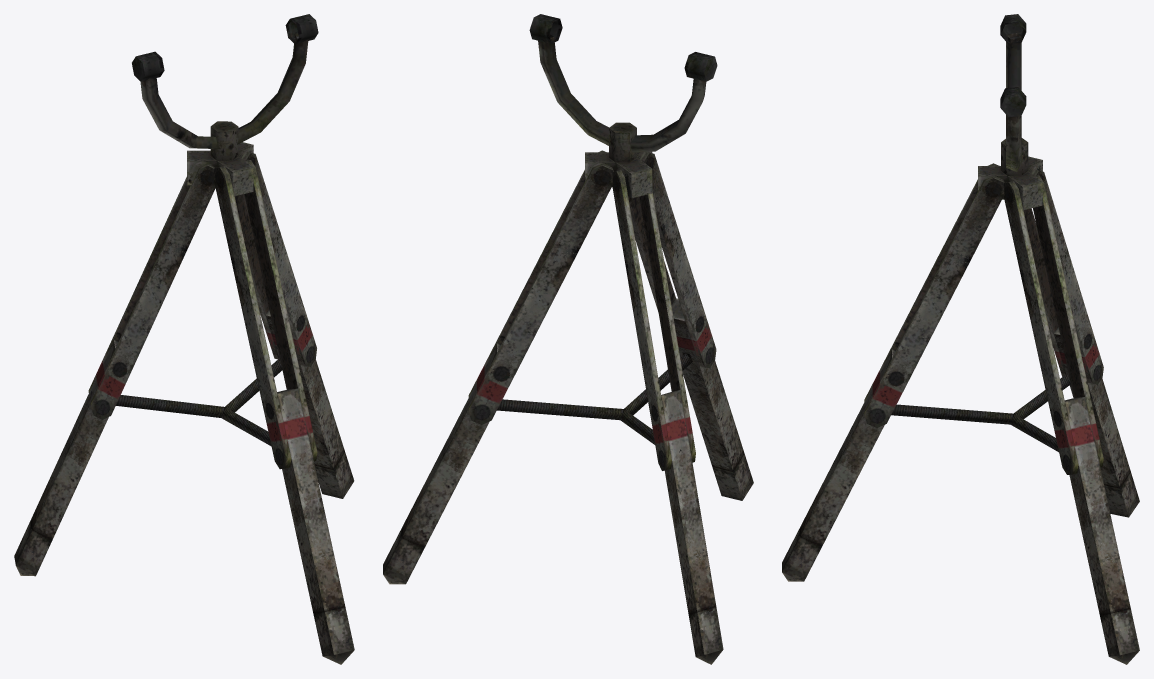
File: spotlight_tripod_flesher_tripod.DAE
3 views of the same model, side by side, from view 1: azimuth 30°, elevation 25°; view 2: azimuth 150°, elevation 25°; view 3: azimuth 270°, elevation 25° (orthographic). The views are drawn at different scales.
Visible parts, largest first — view 1: spotlight_tripod_flesher_LP; view 2: spotlight_tripod_flesher_LP; view 3: spotlight_tripod_flesher_LP.
Part boxes in pixels (x1=…): spotlight_tripod_flesher_LP: x1=14, y1=14, x2=354, y2=664; spotlight_tripod_flesher_LP: x1=383, y1=14, x2=753, y2=664; spotlight_tripod_flesher_LP: x1=782, y1=14, x2=1139, y2=664.
Bounding box in the file's own units: 98.56 × 93.07 × 152.
